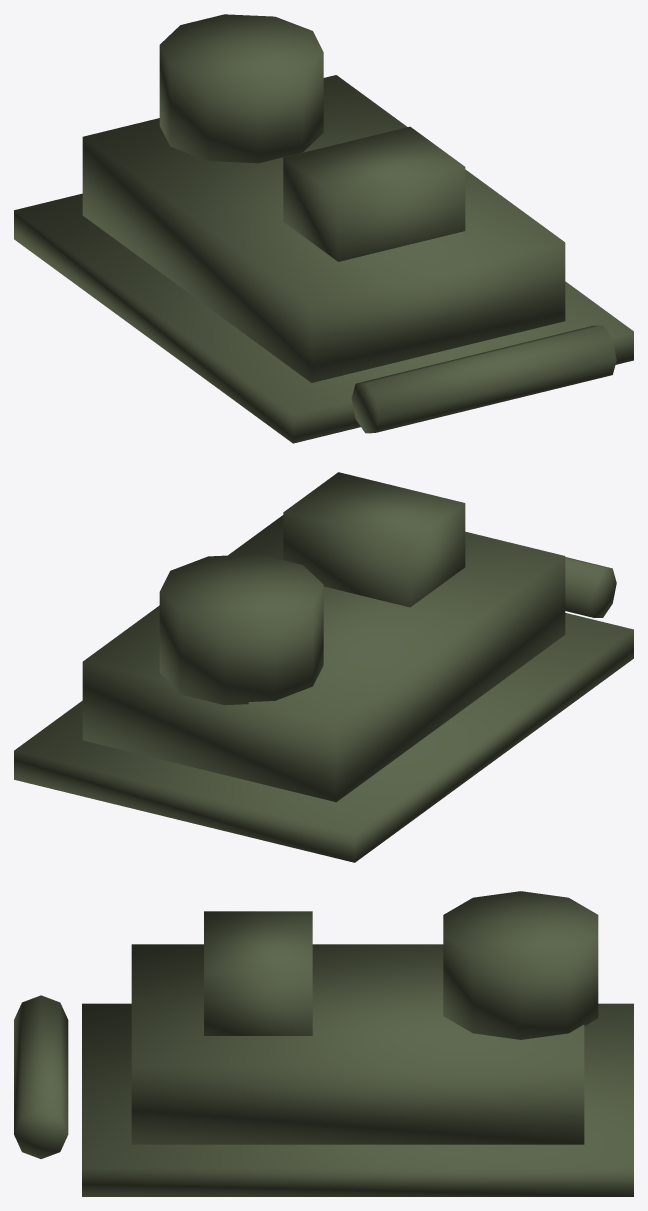
Rendered from harvester_lod2.obj.
3 views of the same model, one above another, from view 1: azimuth 30°, elevation 25°; view 2: azimuth 150°, elevation 25°; view 3: azimuth 270°, elevation 25° (orthographic).
Visible parts, largest first — view 1: harvester_lod2; view 2: harvester_lod2; view 3: harvester_lod2.
Boxes of the visible parts, x1,y1,x2,y2 form: harvester_lod2: [14, 14, 633, 443]; harvester_lod2: [14, 472, 633, 862]; harvester_lod2: [14, 891, 633, 1196].
Bounding box in the file's own units: 4.3 × 2.3 × 6.85.
